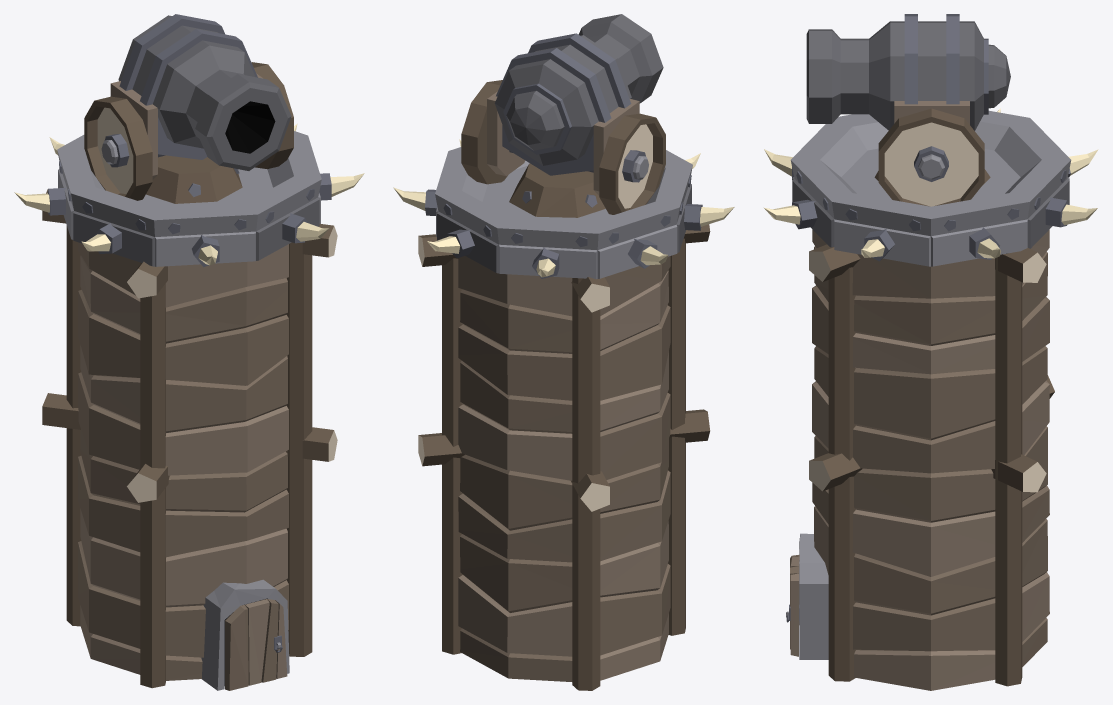
Rendered from _Cannon_tower_LVL_1.fbx.
The picture shows the model from 3 angles, left to right: view 1: azimuth 30°, elevation 25°; view 2: azimuth 150°, elevation 25°; view 3: azimuth 270°, elevation 25°; orthographic projection. The views are drawn at different scales.
Parts seen in each view (by area): view 1: Cannon_tower_LVL_1; view 2: Cannon_tower_LVL_1; view 3: Cannon_tower_LVL_1.
Part boxes in pixels (x1,y1,x2,y2): Cannon_tower_LVL_1: (14, 14, 364, 690); Cannon_tower_LVL_1: (393, 14, 734, 690); Cannon_tower_LVL_1: (764, 14, 1098, 690).
Size of the model in its own units: 834 by 1722 by 834.
